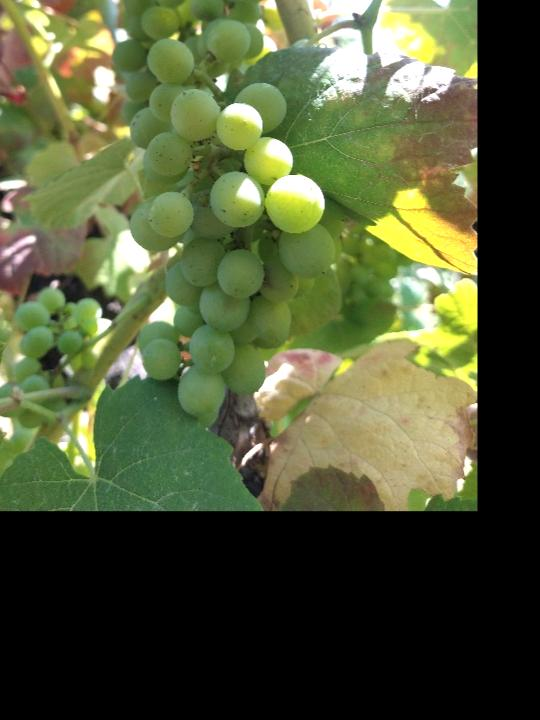grape: (134, 18, 346, 431)
